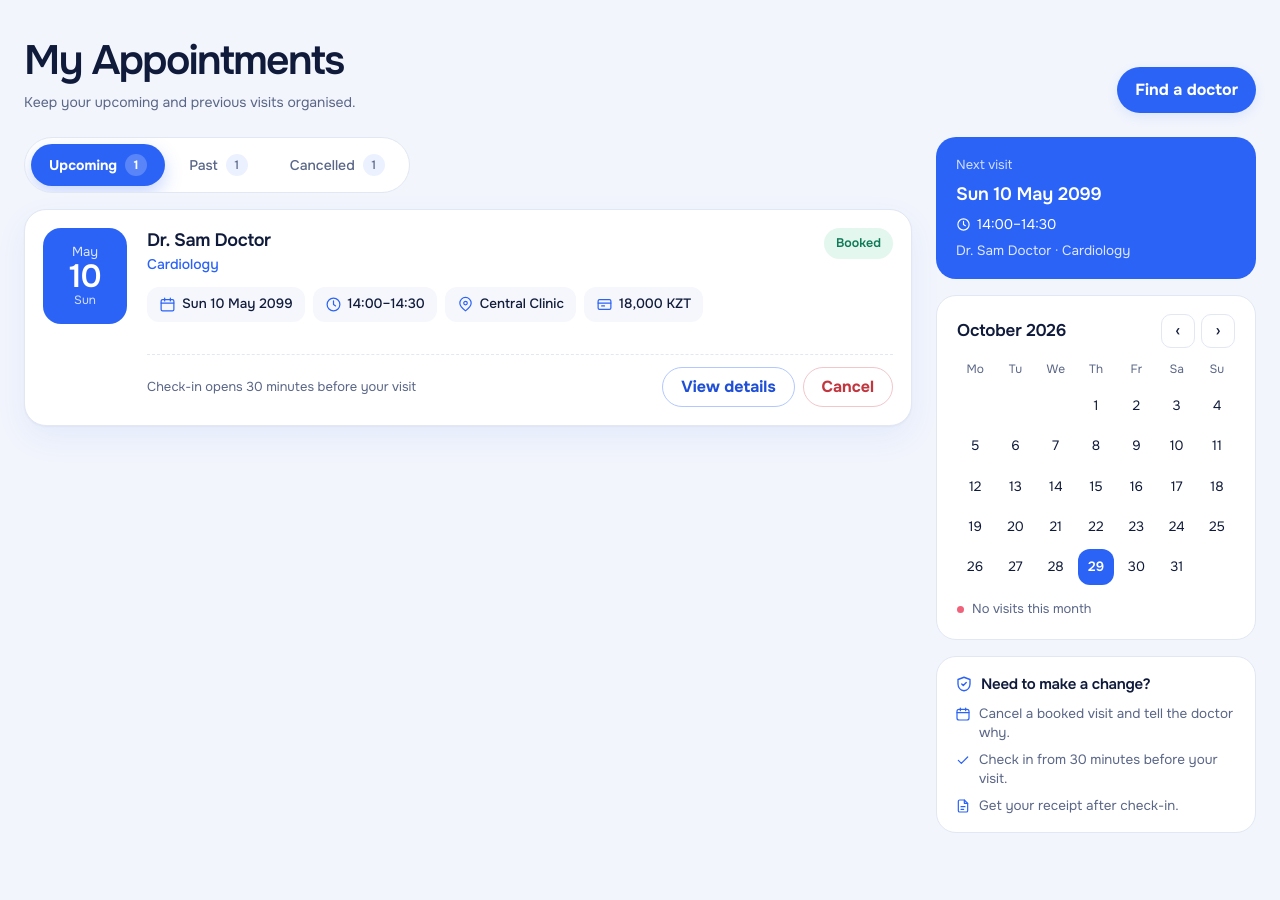
Test: patient appointments dashboard › shows cancelled visits with who cancelled and the reason
The width and height of the screenshot is (1280, 900).
Click the tab "Cancelled 1": (337, 165) x1=272 y1=144 x2=403 y2=186
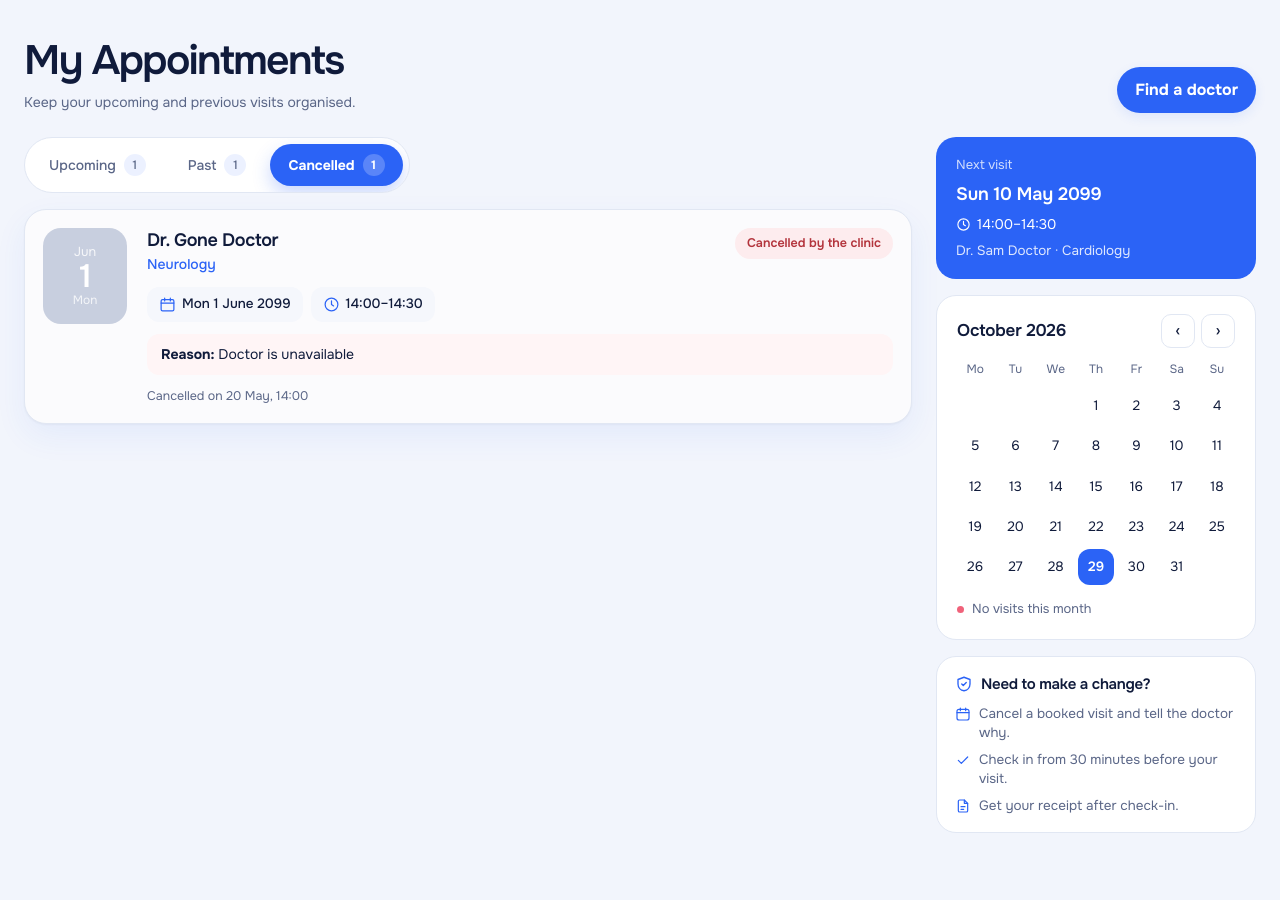
Check: the heading "Dr. Gone Doctor" is shown, box x1=147 y1=228 x2=278 y2=252
Check: the text "Cancelled by the clinic" is shown, box x1=735 y1=228 x2=893 y2=259
Check: the text "Doctor is unavailable" is shown, box x1=218 y1=345 x2=354 y2=363
